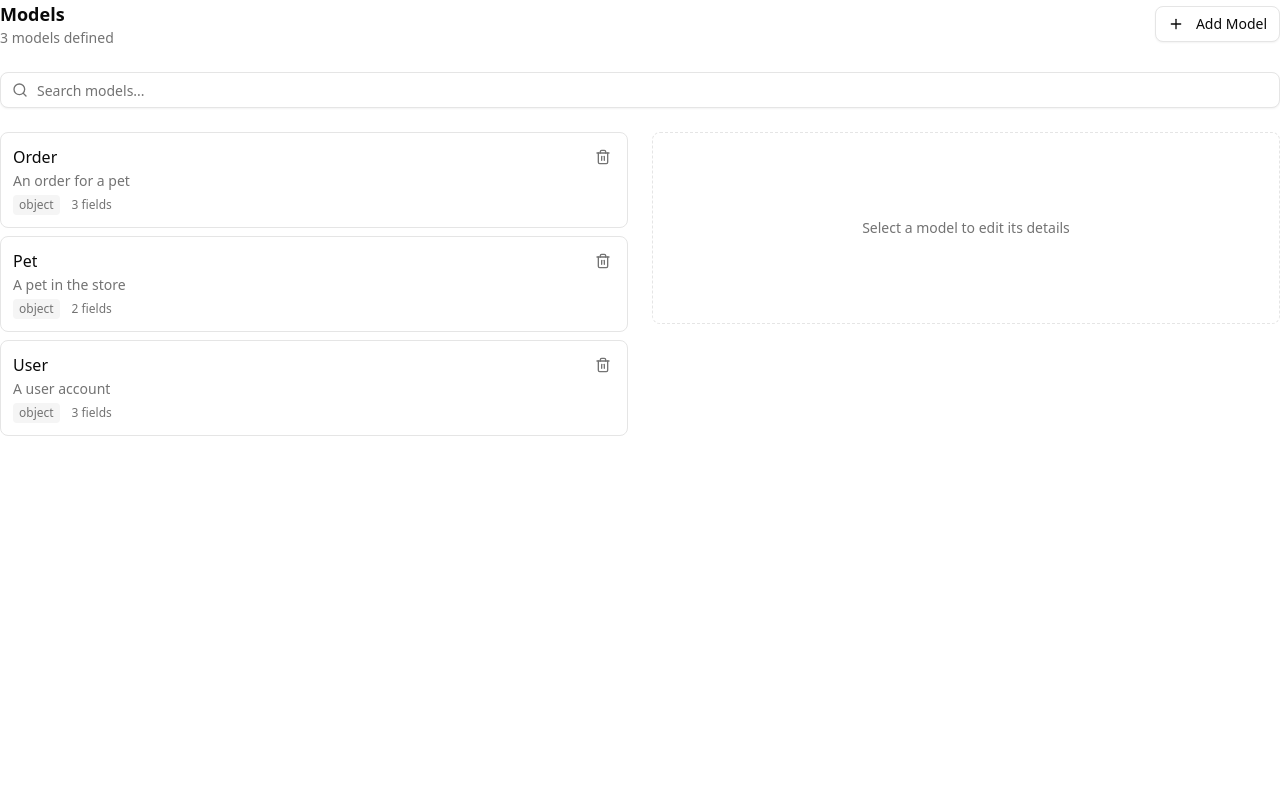
Test: ModelsTab › Delete Model › should close dialog without deleting when cancelled
Click the button named "Delete Order model". click: (603, 157)
box: [591, 145, 615, 169]
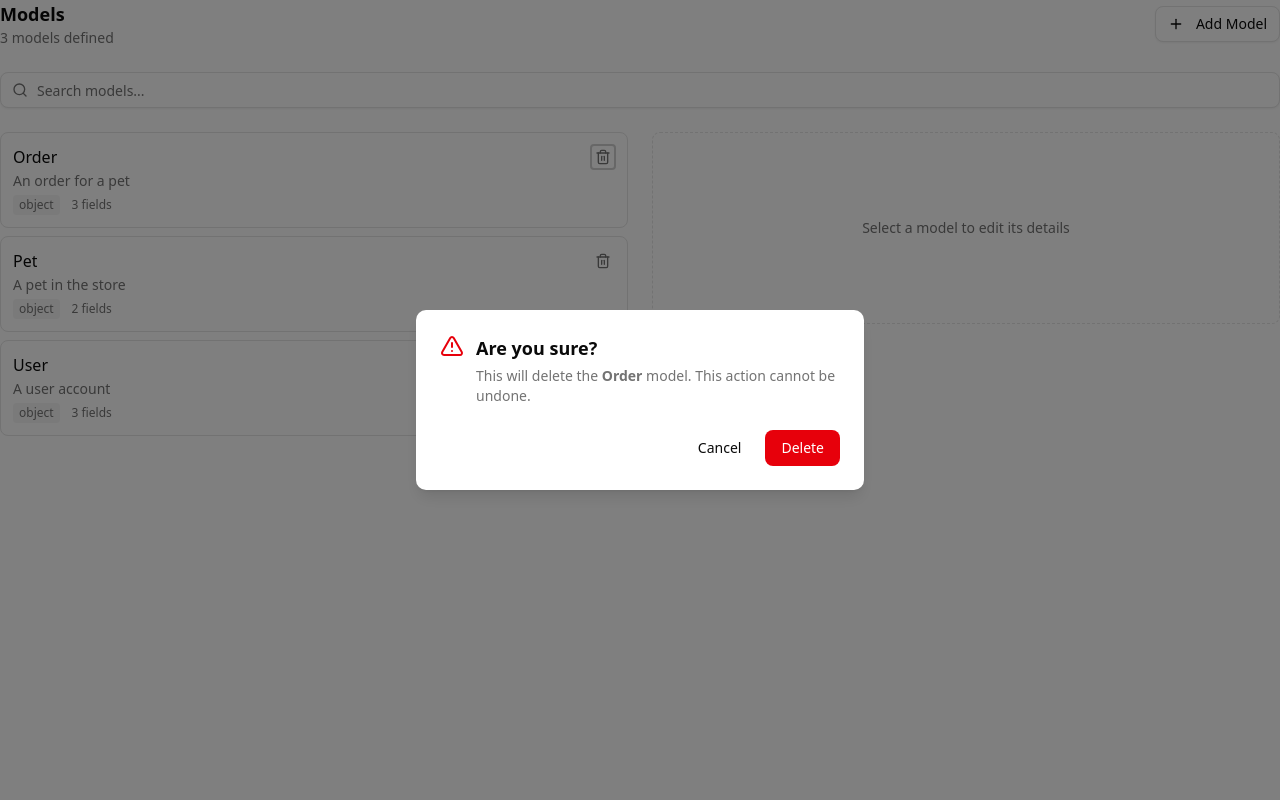
Click the button "Cancel". click: (720, 448)
box: [682, 430, 757, 466]
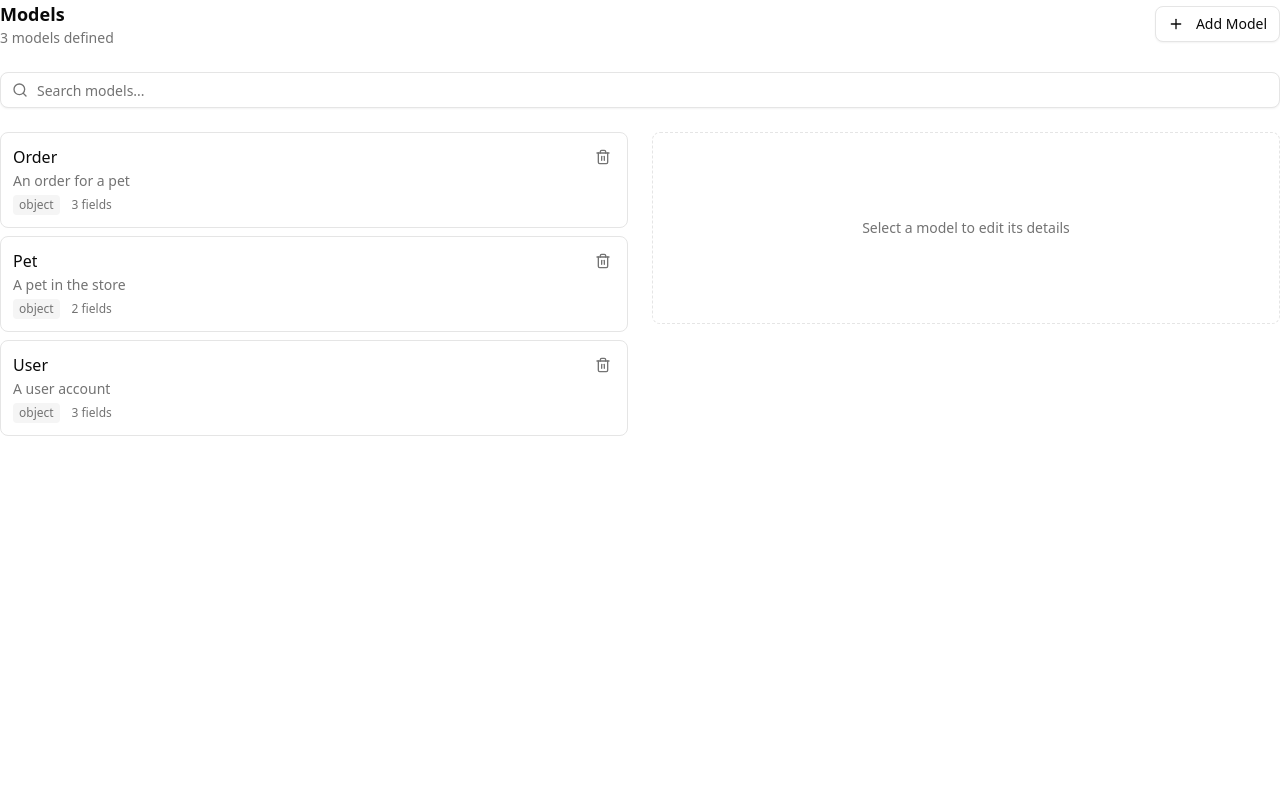
Expected: the text "Pet" is shown, [13, 249, 38, 273]
Expected: the dialog is gone
